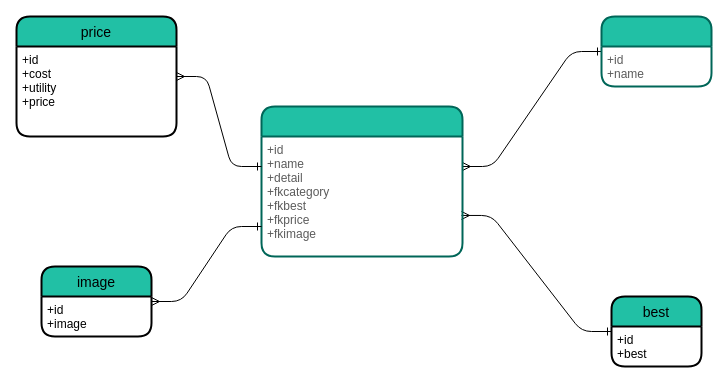
This 728x383 diagram has some shape labels left out. The shapes that lost their labels are listed below. From the top down, each one's box as (x1, y1, x2, y2) in pixels, then its label:
(600, 15, 712, 87): category
(260, 105, 463, 257): products
